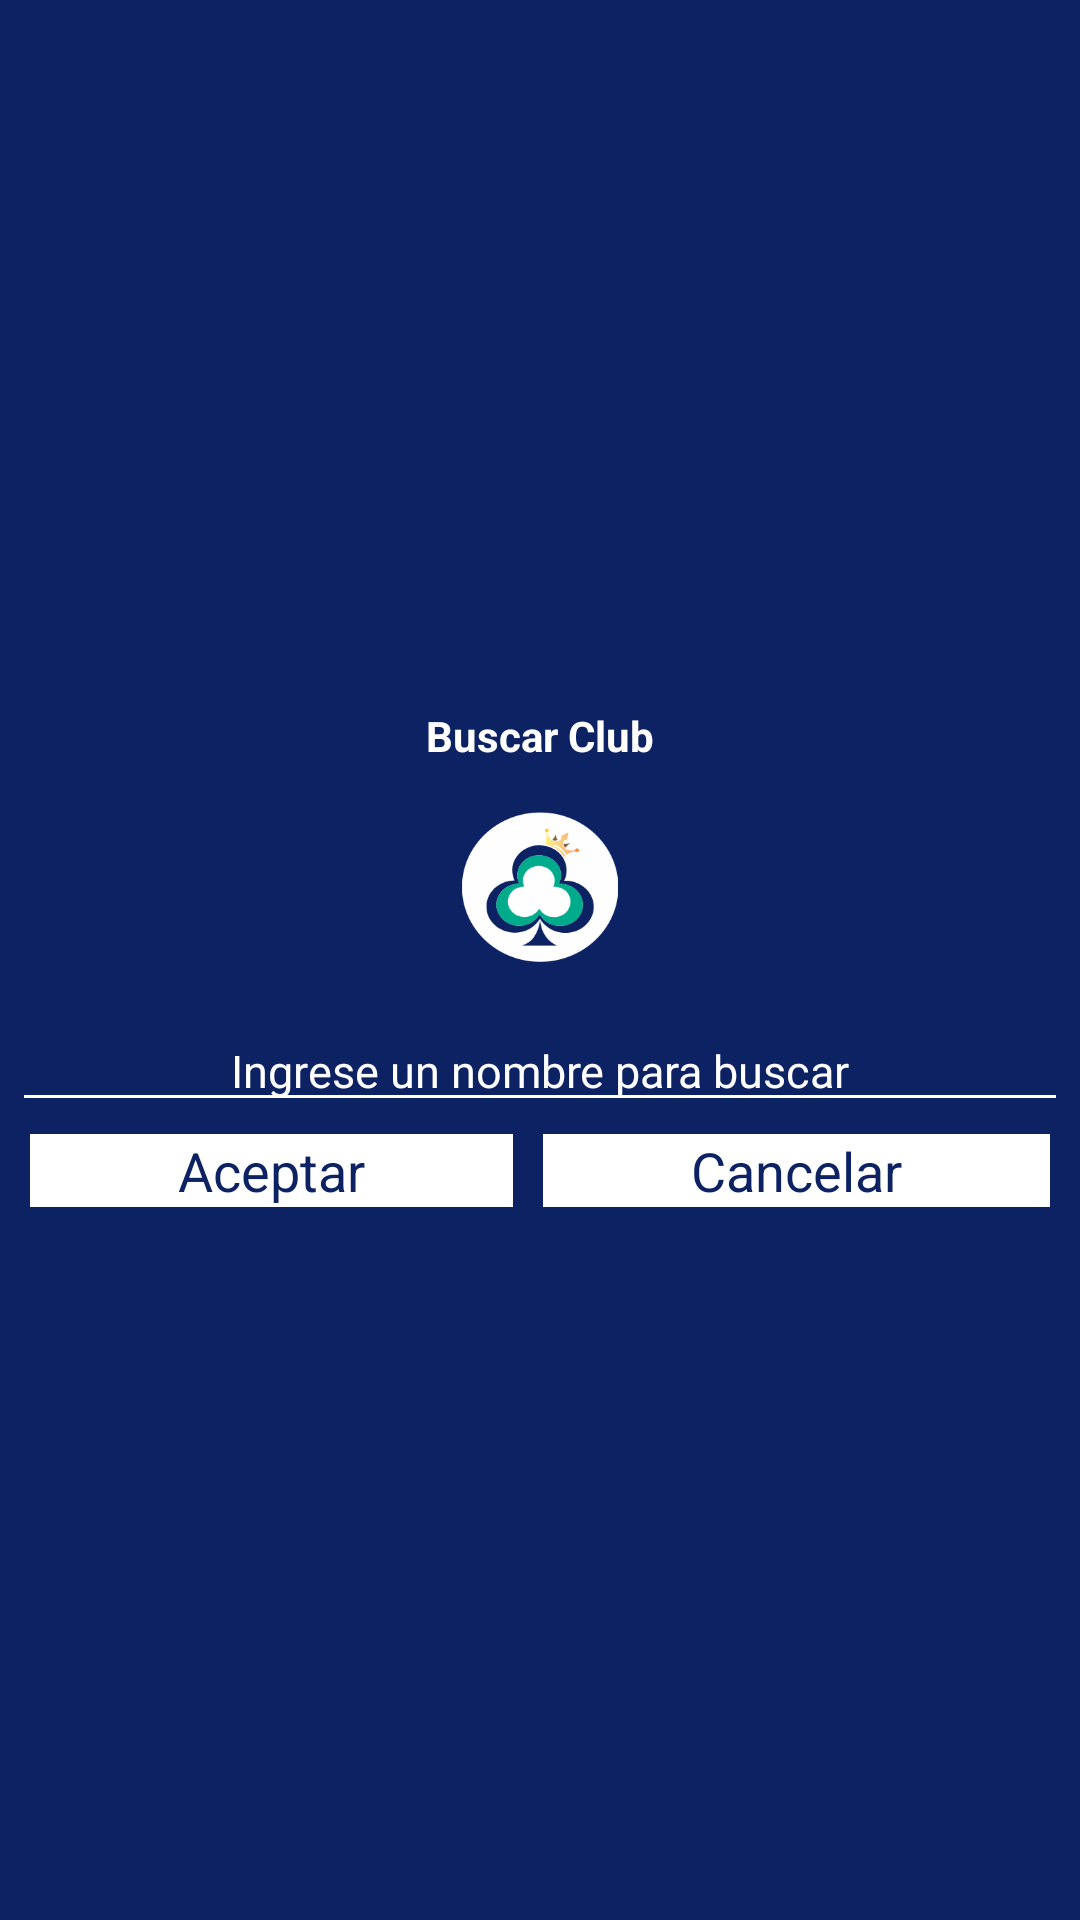

Named icons in this screenshot (1080 x 1920) and their centers, (x,y):
trebol: (540,887)
